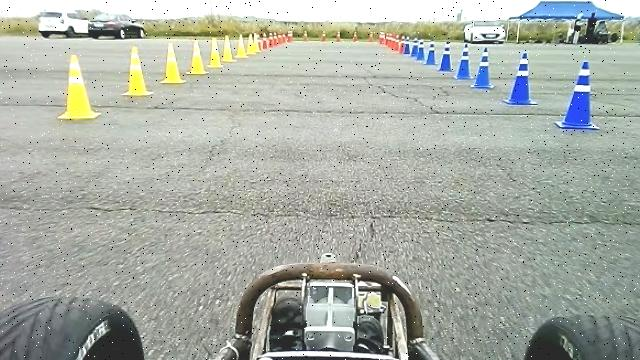blue cone: (556, 60, 600, 130), (502, 51, 539, 105), (470, 46, 494, 88), (454, 42, 475, 79), (438, 40, 455, 71), (424, 39, 438, 65), (416, 38, 426, 60)
yellow cone: (58, 53, 101, 119), (122, 45, 154, 96), (160, 42, 186, 84), (186, 39, 210, 75), (208, 36, 224, 68), (222, 34, 237, 62), (236, 33, 248, 58), (246, 33, 258, 54), (253, 32, 262, 52)
